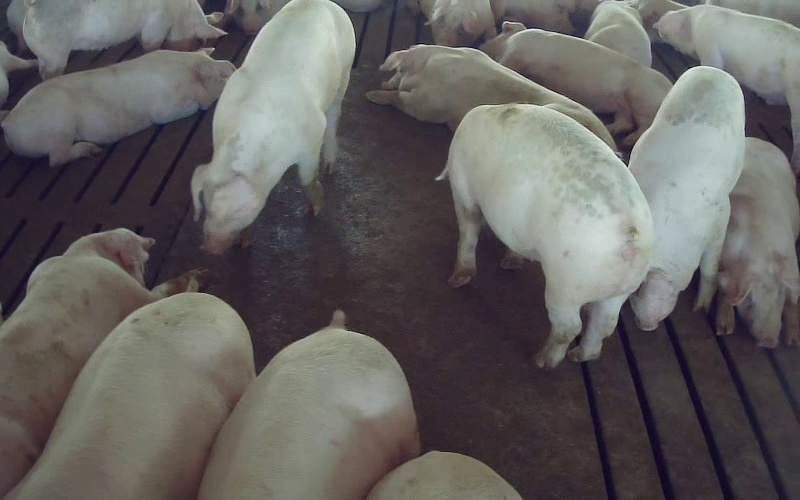pig: (438, 105, 653, 367), (0, 228, 204, 497), (8, 276, 254, 497), (199, 310, 418, 499), (629, 66, 744, 329), (2, 48, 234, 165), (366, 45, 616, 150), (655, 5, 799, 172), (481, 23, 671, 147), (716, 137, 799, 346), (23, 0, 225, 79), (584, 0, 651, 66)
